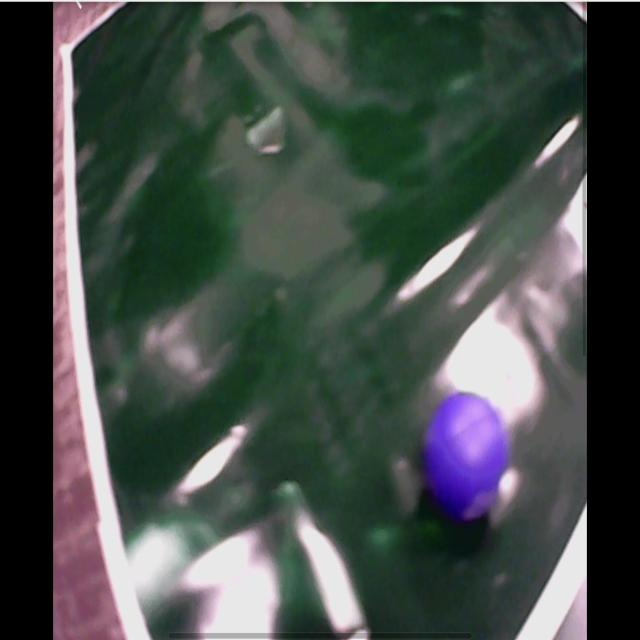ball: (425, 393, 506, 520)
